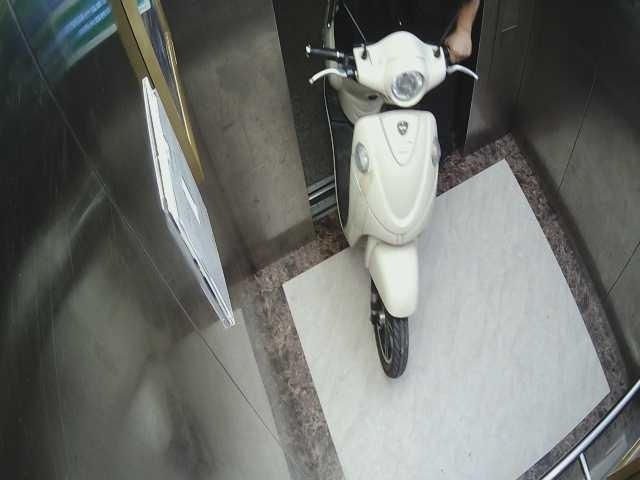emotor: (302, 3, 468, 375)
